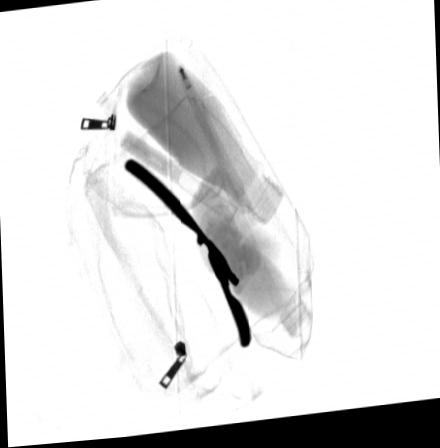Pliers: (122, 161, 251, 353)
